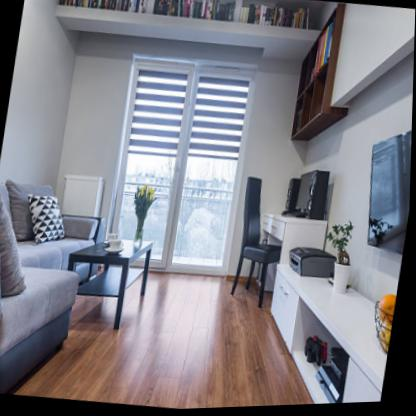Window: (106, 51, 258, 269)
